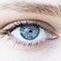eye: (21, 25, 40, 40)
